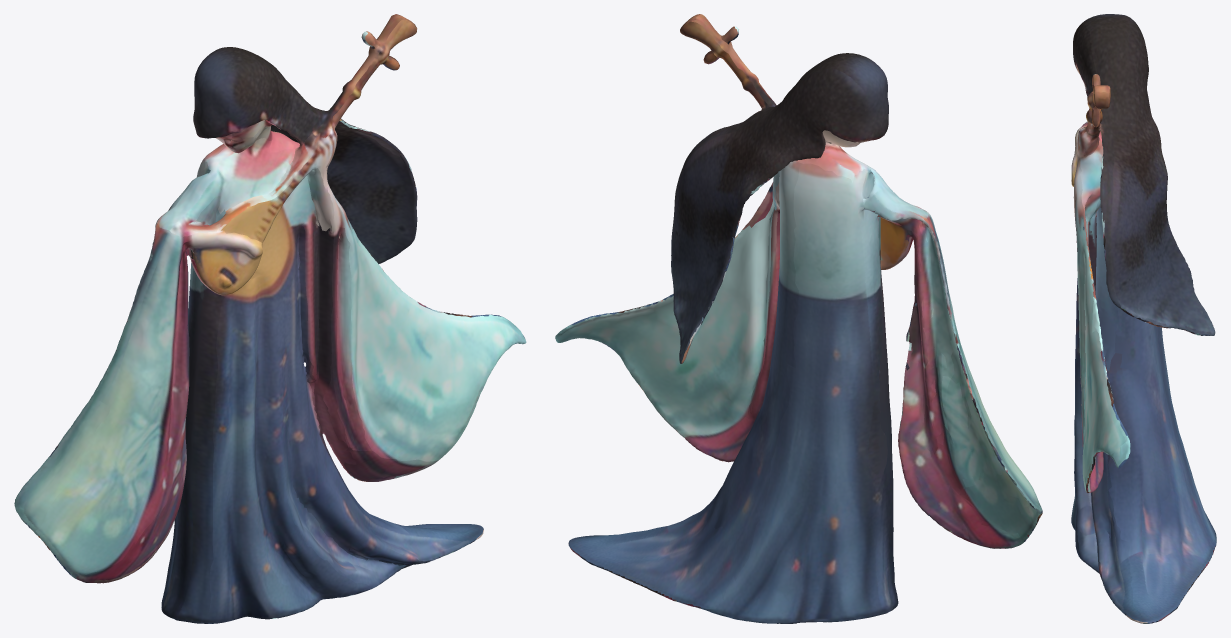
Rendered from thuy_kieu.glb.
3 renders of one model, left to right at view 1: azimuth 30°, elevation 25°; view 2: azimuth 150°, elevation 25°; view 3: azimuth 270°, elevation 25°, orthographic. The views are drawn at different scales.
Parts seen in each view (by area): view 1: world; view 2: world; view 3: world.
Part boxes in pixels (bbox=[...]): world: bbox=[14, 14, 526, 623]; world: bbox=[555, 14, 1042, 623]; world: bbox=[1071, 14, 1216, 623].
Bounding box in the file's own units: 0.9296 × 0.9813 × 0.2624.
1 material, 1 textured.
